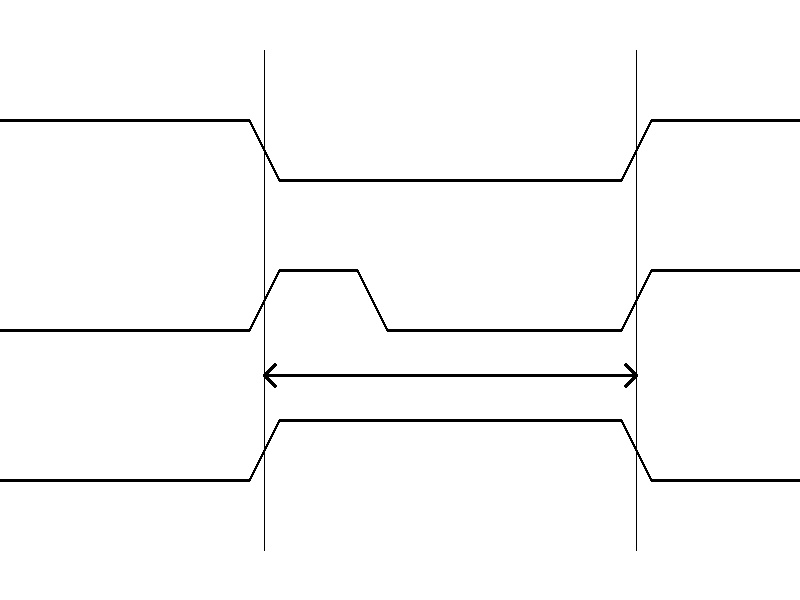double_arrow: (264, 360, 636, 390)
